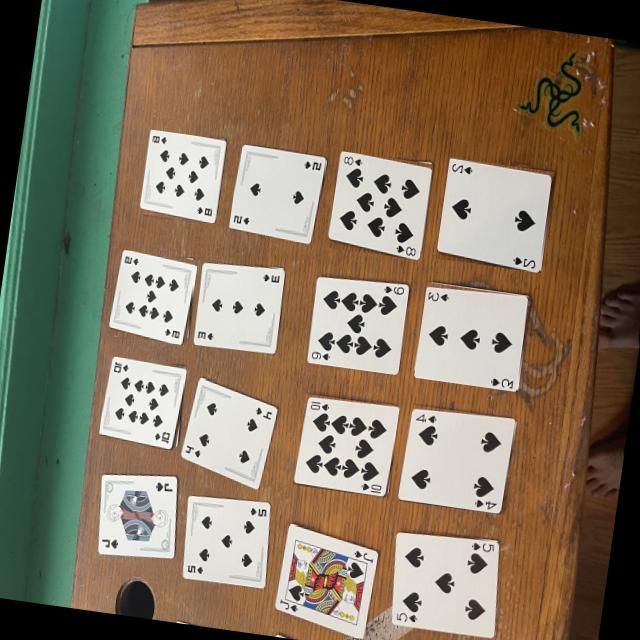10 of spades: (295, 395, 400, 495), (100, 356, 187, 448)
2 of spades: (438, 157, 553, 272), (230, 143, 326, 243)
3 of spades: (416, 286, 529, 391), (194, 260, 285, 352)
4 of spades: (399, 408, 516, 513), (182, 378, 277, 488)
5 of spades: (393, 531, 500, 637), (183, 495, 271, 588)
8 of spades: (329, 151, 432, 258), (140, 129, 226, 222)
9 of spades: (307, 276, 409, 374), (110, 249, 197, 344)
Jack of spades: (275, 524, 378, 637), (98, 473, 178, 558)
